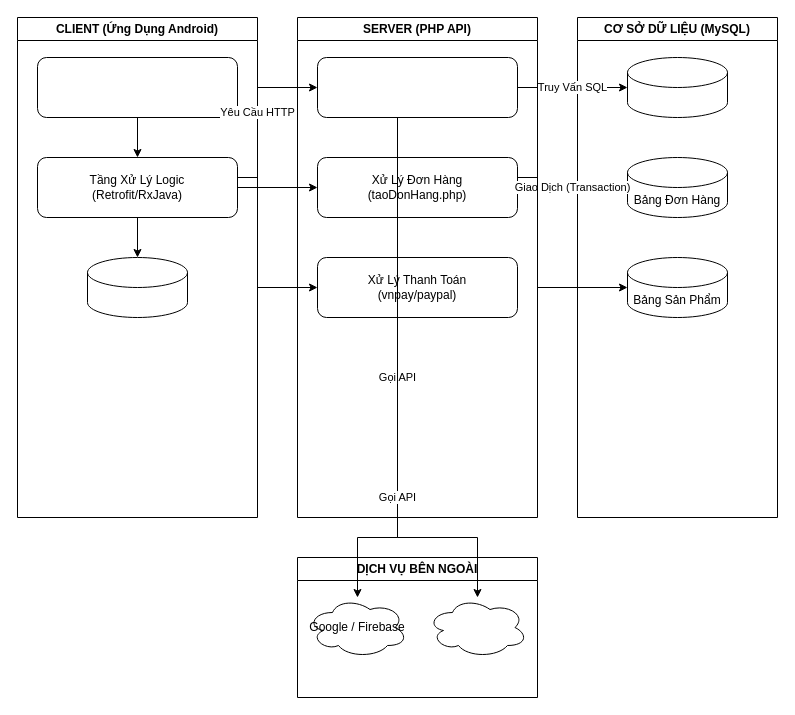
This 795x715 diagram has some shape labels left out. Here are the shapes that lost their labels. From the top down, the box of each, then its label:
(36, 56, 238, 118): Tầng Giao Diện (Activities/Fragments)
(316, 56, 518, 118): Xử Lý Xác Thực (dangnhap.php)
(626, 56, 728, 118): Bảng User
(86, 256, 188, 318): Dữ Liệu Cục Bộ (PaperDB)
(426, 596, 528, 658): VNPay / PayPal
